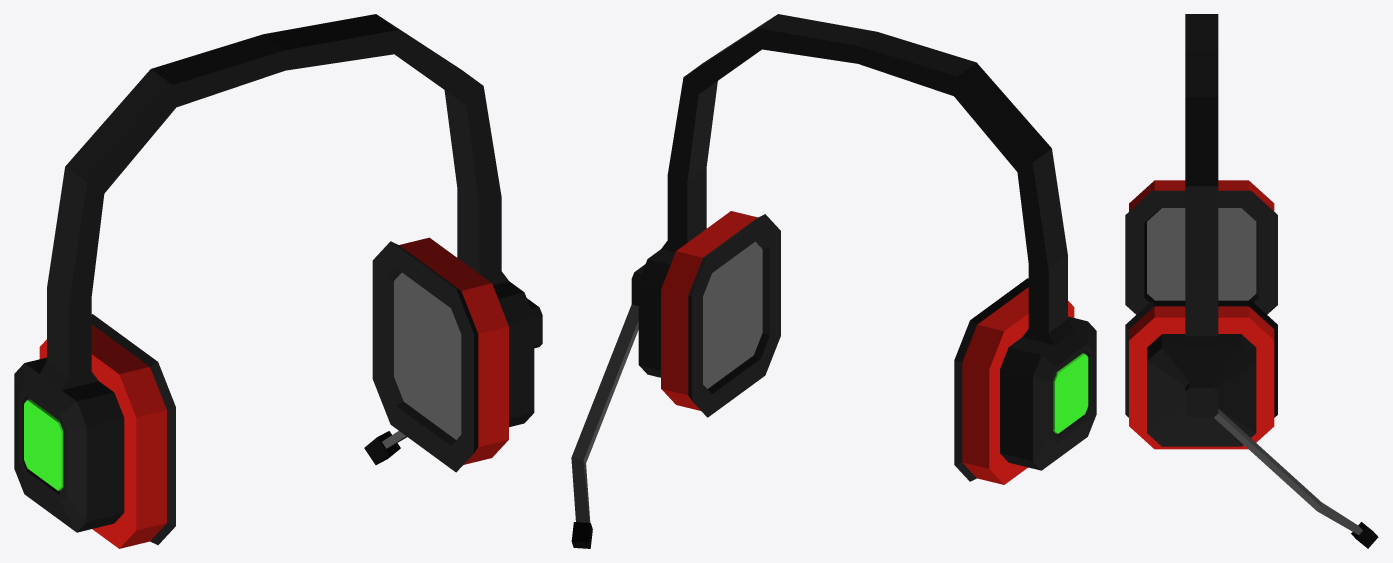
File: Headset 1.fbx
The picture shows the model from 3 angles, left to right: view 1: azimuth 30°, elevation 25°; view 2: azimuth 150°, elevation 25°; view 3: azimuth 270°, elevation 25°; orthographic projection. The views are drawn at different scales.
Visible parts, largest first — view 1: Node 0; view 2: Node 0; view 3: Node 0.
Boxes of the visible parts, bbox=[...] form: Node 0: bbox=[14, 14, 542, 548]; Node 0: bbox=[571, 14, 1096, 548]; Node 0: bbox=[1125, 14, 1378, 548].
Size of the model in its own units: 0.1991 by 0.3614 by 0.3349.
